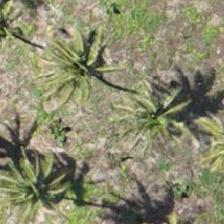coconut_tree: (32, 13, 122, 103), (112, 69, 202, 159), (0, 126, 73, 216), (0, 0, 53, 73)
